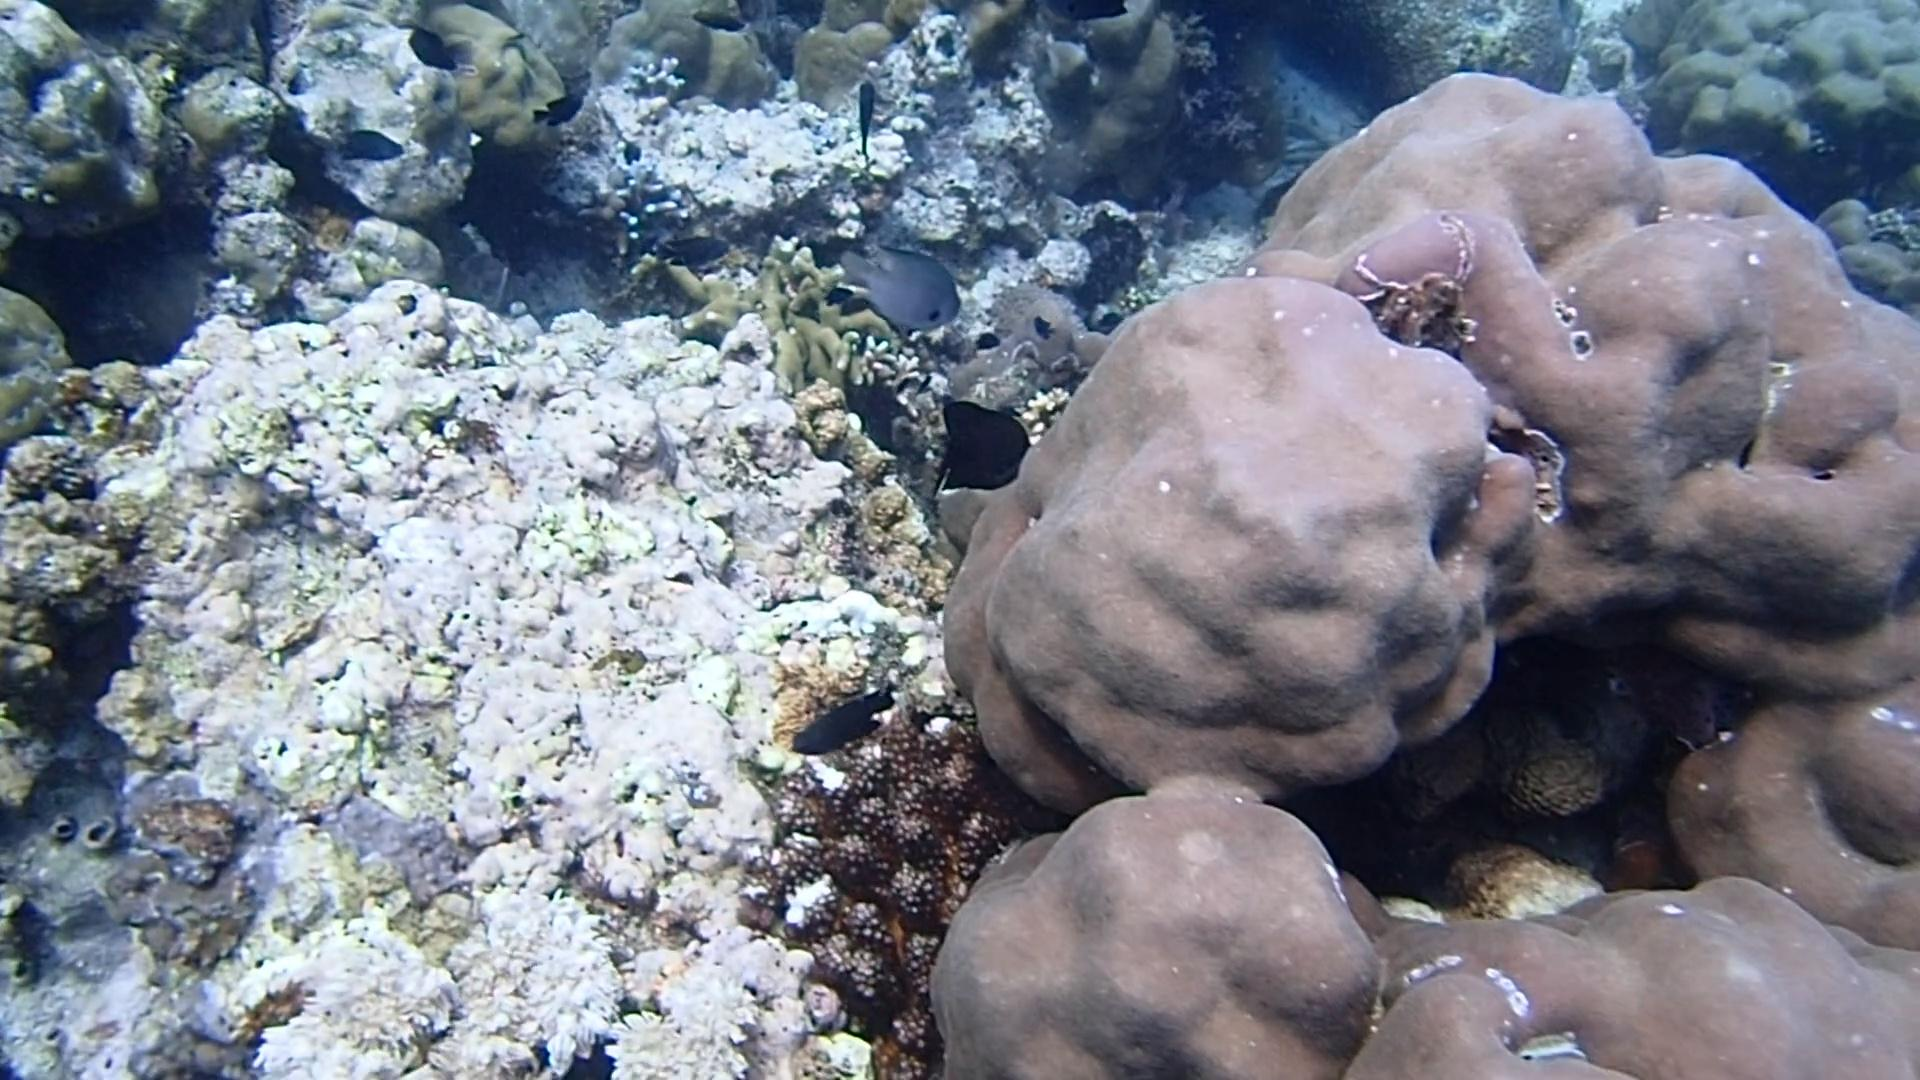Dark Fish: (935, 392, 1031, 501), (778, 678, 898, 762), (844, 69, 890, 171), (397, 18, 473, 80), (332, 121, 406, 175), (650, 229, 735, 270), (529, 88, 585, 132), (1029, 305, 1059, 351), (822, 280, 855, 316), (976, 324, 998, 356)
Light Fish - Dark Fin: (831, 232, 972, 340)
